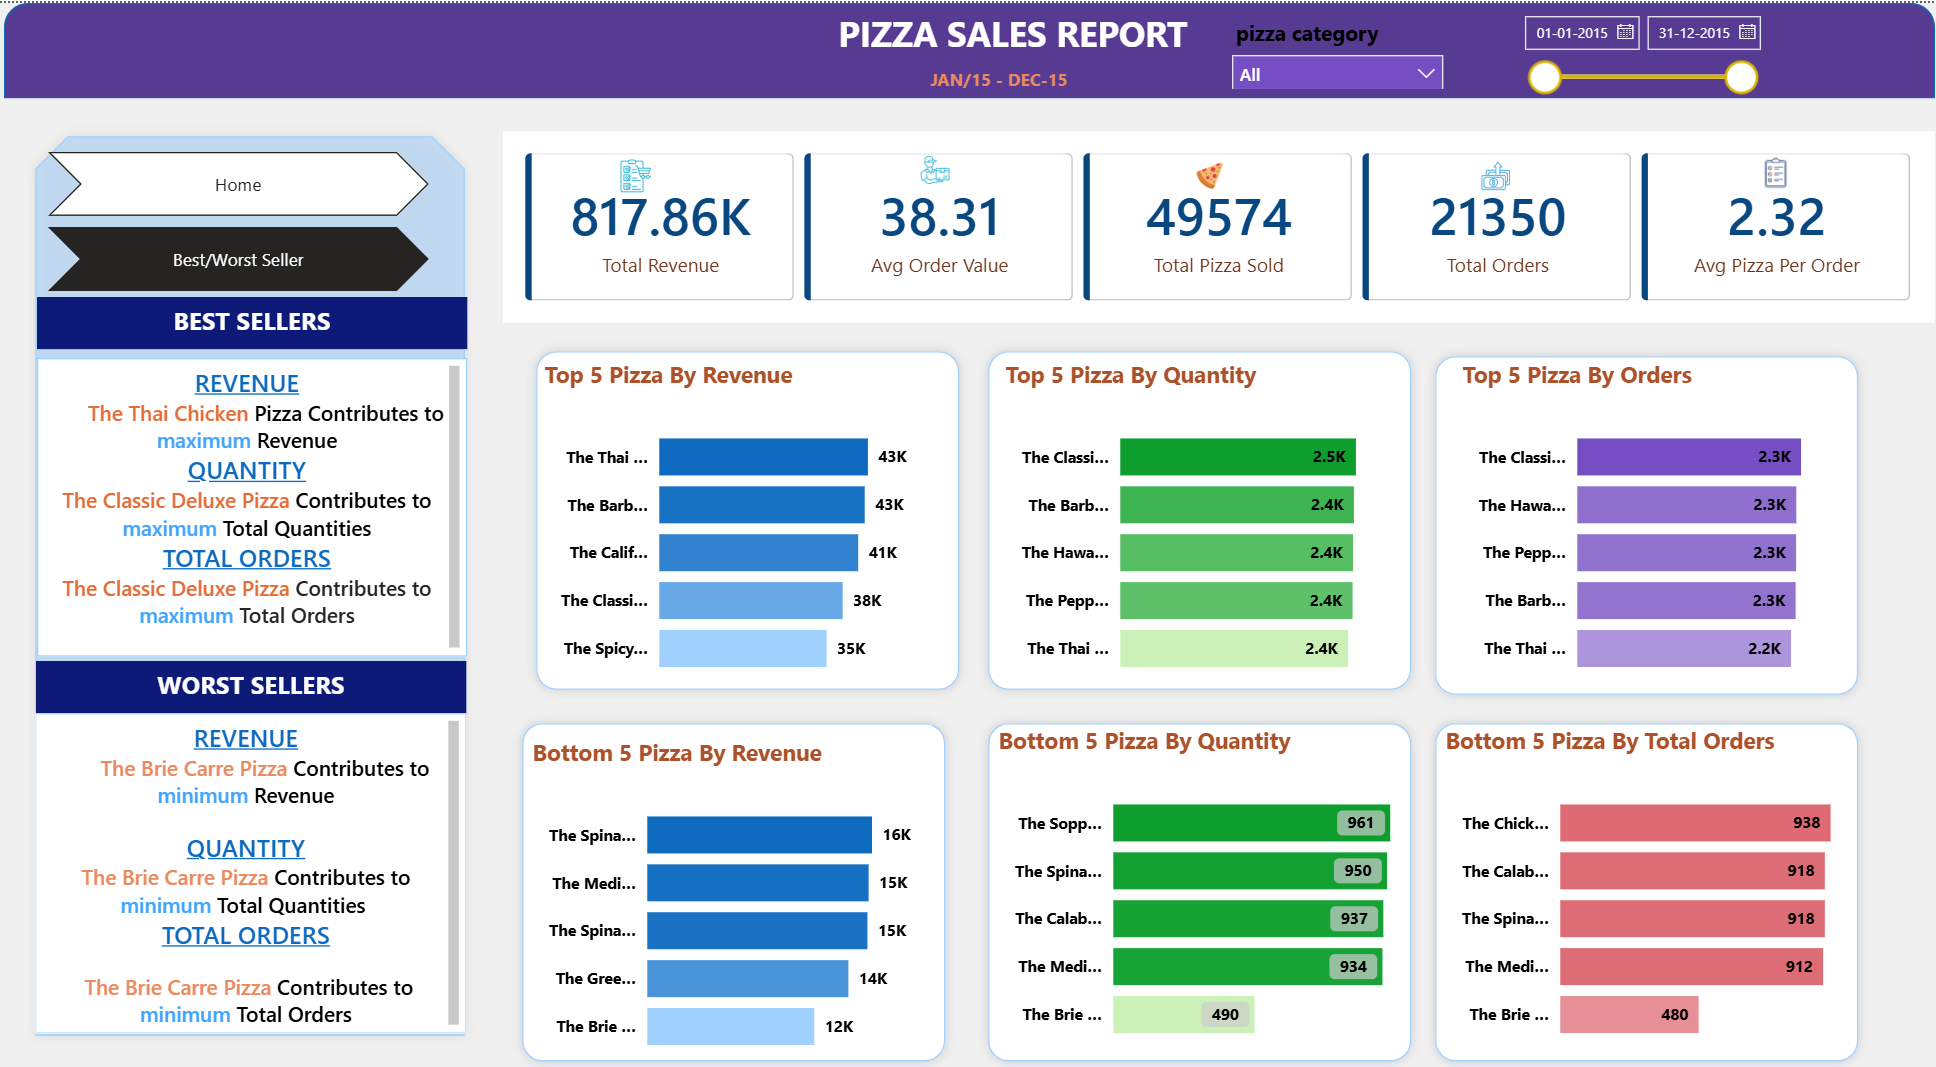

The dashboard page shown, as its layout file describes it:
{"tool":"powerbi","page":{"name":"Best/Worst Seller","canvas":[1500,820],"ordinal":1},"visuals":[{"type":"cardVisual","fields":{"Data":["pizza_sales.Total Revenue","pizza_sales.Avg Order Value","pizza_sales.Total Pizza Sold","pizza_sales.Total Orders","pizza_sales.Avg Pizza Per Order"]},"box":[392.6,98.2,1098.2,147.2],"z":0},{"type":"image","box":[1133.4,119.6,40.6,25.6],"z":1000},{"type":"image","box":[911,121.9,46.7,20.6],"z":2000},{"type":"image","box":[475.5,119.6,37.8,25.6],"z":3000},{"type":"image","box":[709.4,116.6,28.9,22.8],"z":4000},{"type":"image","box":[1356.6,115,24.4,30],"z":5000},{"type":"shape","box":[10,0,1480.8,73.3],"z":6000},{"type":"textbox","box":[640,0,286.7,48.3],"z":7000},{"type":"textbox","box":[690,44.2,165.8,29.2],"z":8000},{"type":"shape","box":[410.3,259.2,340,275.3],"z":9000},{"type":"shape","box":[26.1,94.3,345.1,705.5],"z":10000},{"type":"slicer","fields":{"Values":["pizza_sales.pizza_category"]},"box":[941.7,6.9,181.7,59],"z":15000},{"type":"slicer","fields":{"Values":["pizza_sales.order_date"]},"box":[1163.3,0,200.2,73.6],"z":16000},{"type":"shape","box":[1099.7,544.5,340,275],"z":17000},{"type":"shape","box":[756.9,544.5,340,275],"z":18000},{"type":"shape","box":[1099.7,263,340,275.3],"z":19000},{"type":"shape","box":[756.9,259.2,340,275.3],"z":20000},{"type":"shape","box":[399.5,544.5,340,275],"z":21000},{"type":"barChart","title":"Top 5 Pizza By Revenue","fields":{"Category":["pizza_sales.pizza_name"],"Y":["pizza_sales.Total Revenue"]},"box":[419.5,272.2,319,257.7],"z":22000},{"type":"barChart","title":"Bottom 5 Pizza By Revenue","fields":{"Category":["pizza_sales.pizza_name"],"Y":["pizza_sales.Total Revenue"]},"box":[410.3,562.1,319,257.7],"z":23000},{"type":"barChart","title":"Top 5 Pizza By Quantity","fields":{"Category":["pizza_sales.pizza_name"],"Y":["pizza_sales.Total Pizza Sold"]},"box":[773,272.2,319,257.7],"z":24000},{"type":"barChart","title":"Bottom 5 Pizza By Quantity","fields":{"Category":["pizza_sales.pizza_name"],"Y":["pizza_sales.Total Pizza Sold"]},"box":[767.6,552.9,319,257.7],"z":25000},{"type":"barChart","title":"Top 5 Pizza By Orders","fields":{"Category":["pizza_sales.pizza_name"],"Y":["pizza_sales.Total Orders"]},"box":[1123.5,272.2,319,257.7],"z":26000},{"type":"barChart","title":"Bottom 5 Pizza By Total Orders","fields":{"Category":["pizza_sales.pizza_name"],"Y":["pizza_sales.Total Orders"]},"box":[1110.4,552.9,319,257.7],"z":27000},{"type":"textbox","box":[35.3,225.5,329.8,39.9],"z":29000},{"type":"textbox","box":[35.3,272.2,329.8,229.3],"z":30000},{"type":"textbox","box":[33.7,544.5,331.3,246.2],"z":30001},{"type":"textbox","box":[34.5,504.6,329.8,39.9],"z":30002},{"type":"pageNavigator","box":[43.7,114.3,292.9,49.8],"z":30003},{"type":"pageNavigator","box":[43.7,171.8,292.9,49.8],"z":30004}]}

Visuals, with their boxes in screenshot pixels (x1, y1, x2, y2), scaled from the page's 1500x820 canvas onto the 1936x1067 screenshot:
cardVisual - pizza_sales.Total Revenue x pizza_sales.Avg Order Value: x1=507 y1=128 x2=1924 y2=319
image: x1=1463 y1=156 x2=1515 y2=189
image: x1=1176 y1=159 x2=1236 y2=185
image: x1=614 y1=156 x2=662 y2=189
image: x1=916 y1=152 x2=953 y2=181
image: x1=1751 y1=150 x2=1782 y2=189
shape: x1=13 y1=0 x2=1924 y2=95
textbox: x1=826 y1=0 x2=1196 y2=63
textbox: x1=891 y1=58 x2=1105 y2=96
shape: x1=530 y1=337 x2=968 y2=696
shape: x1=34 y1=123 x2=479 y2=1041
slicer - pizza_sales.pizza_category: x1=1215 y1=9 x2=1450 y2=86
slicer - pizza_sales.order_date: x1=1501 y1=0 x2=1760 y2=96
shape: x1=1419 y1=709 x2=1858 y2=1066
shape: x1=977 y1=709 x2=1416 y2=1066
shape: x1=1419 y1=342 x2=1858 y2=700
shape: x1=977 y1=337 x2=1416 y2=696
shape: x1=516 y1=709 x2=954 y2=1066
"Top 5 Pizza By Revenue" barChart: x1=541 y1=354 x2=953 y2=690
"Bottom 5 Pizza By Revenue" barChart: x1=530 y1=731 x2=941 y2=1066
"Top 5 Pizza By Quantity" barChart: x1=998 y1=354 x2=1409 y2=690
"Bottom 5 Pizza By Quantity" barChart: x1=991 y1=719 x2=1402 y2=1055
"Top 5 Pizza By Orders" barChart: x1=1450 y1=354 x2=1862 y2=690
"Bottom 5 Pizza By Total Orders" barChart: x1=1433 y1=719 x2=1845 y2=1055
textbox: x1=46 y1=293 x2=471 y2=345
textbox: x1=46 y1=354 x2=471 y2=653
textbox: x1=43 y1=709 x2=471 y2=1029
textbox: x1=45 y1=657 x2=470 y2=709
pageNavigator: x1=56 y1=149 x2=434 y2=214
pageNavigator: x1=56 y1=224 x2=434 y2=288
